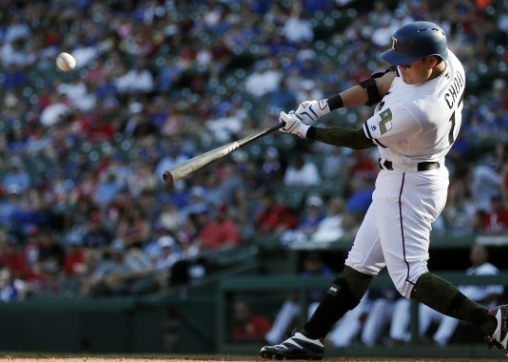ball: (53, 52, 77, 71)
